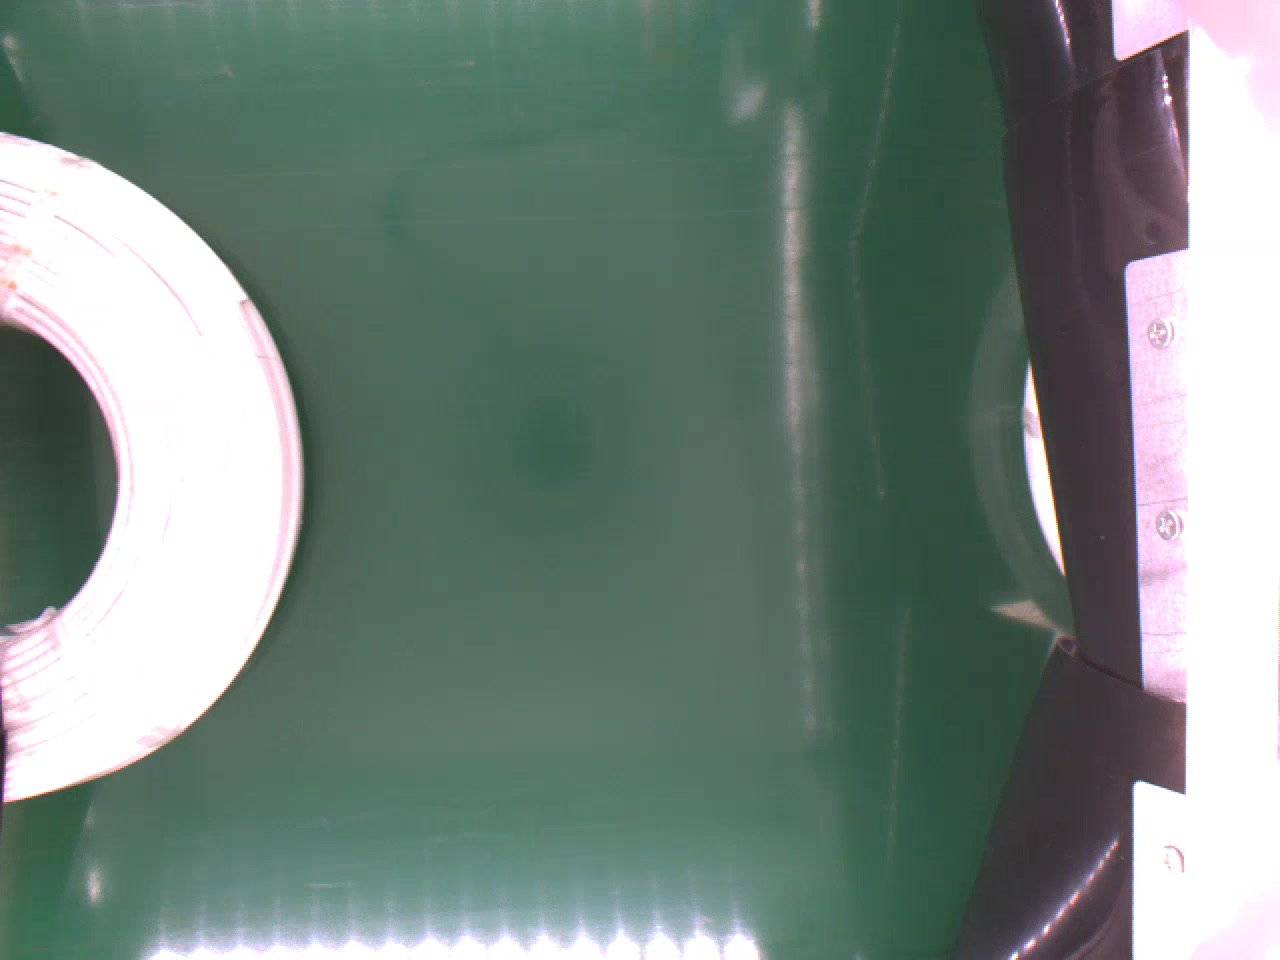white: (0, 134, 305, 799)
